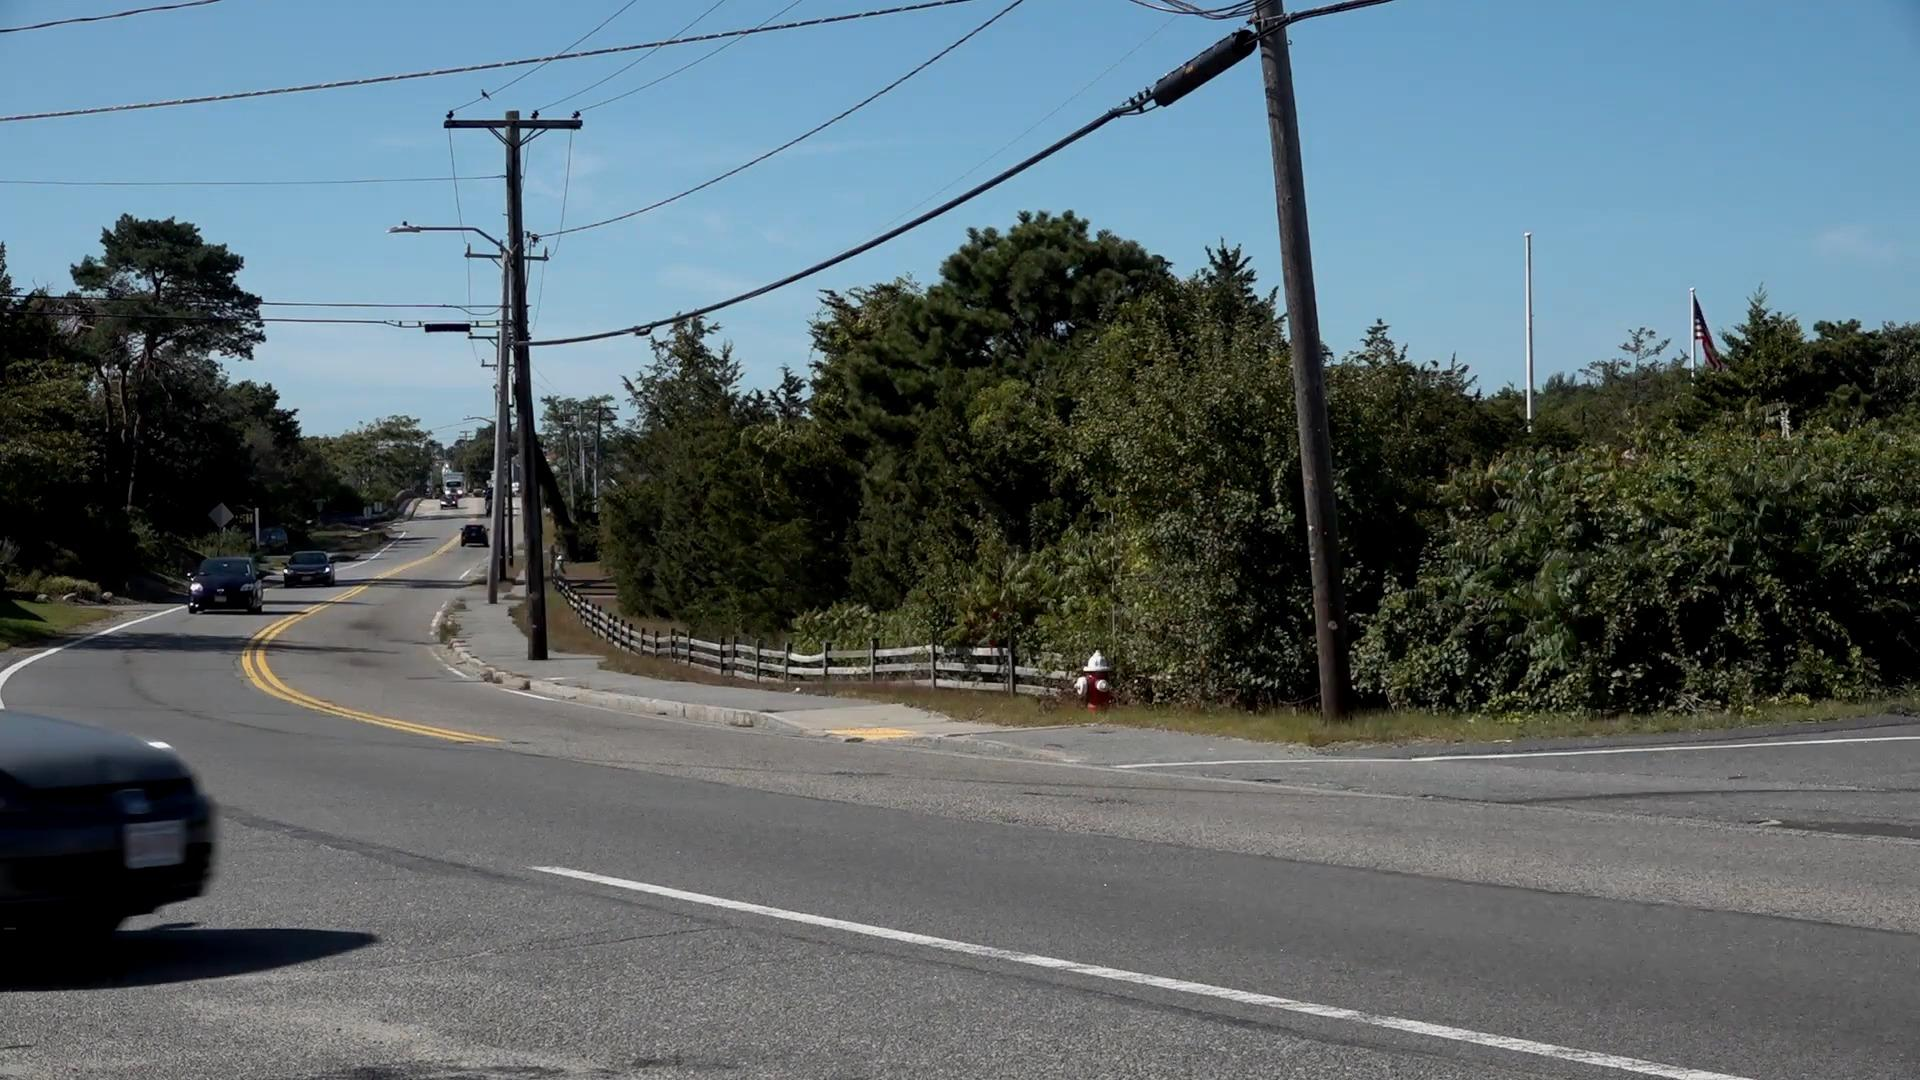sedans: (187, 554, 264, 615)
